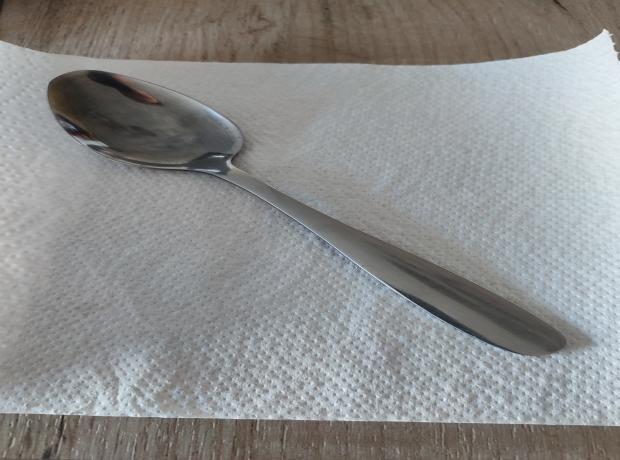metal: (45, 69, 570, 357)
